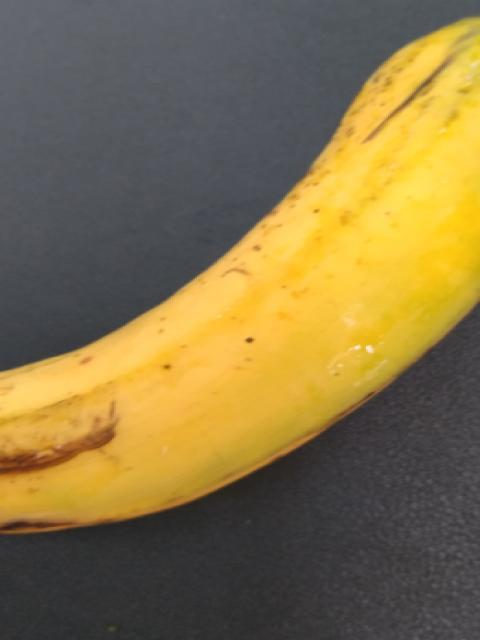ripe: (1, 7, 479, 606)
